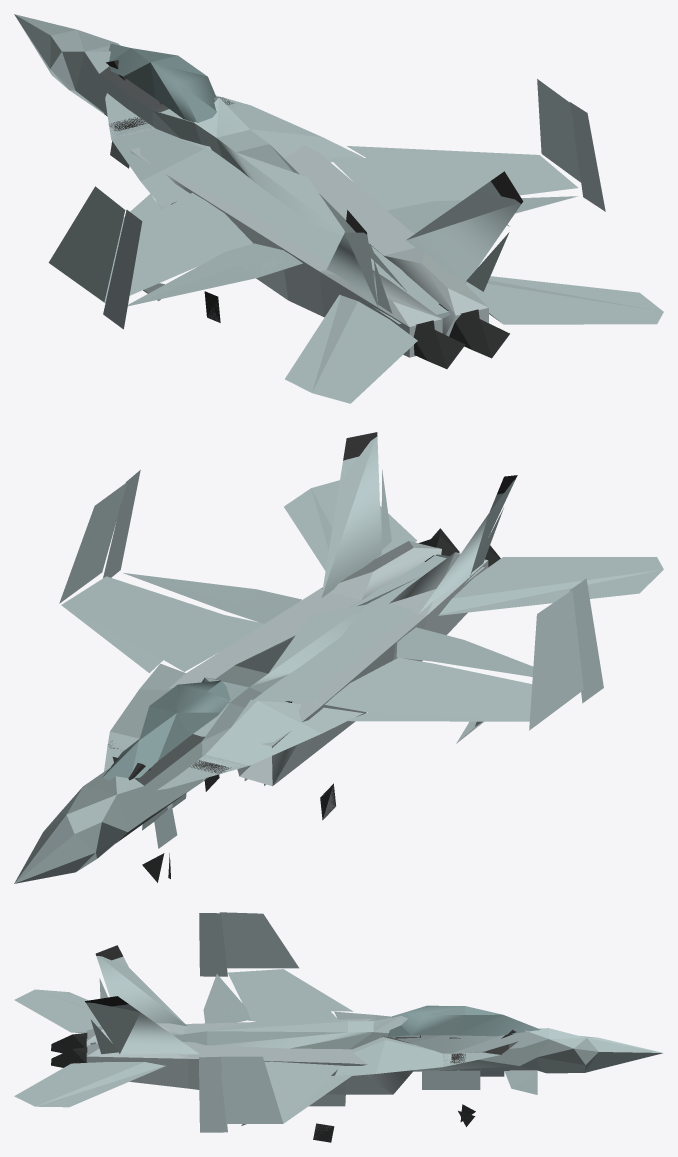
The model's file is NEXUS(SEMILLASINVASORASPROTEGGOAS).glb.
3 renders of one model, top to bottom at view 1: azimuth 30°, elevation 25°; view 2: azimuth 150°, elevation 25°; view 3: azimuth 270°, elevation 25°, orthographic. The views are drawn at different scales.
Parts seen in each view (by area): view 1: cuboid_2, cylinder_1, cuboid_21, cuboid_35, cuboid_4, cuboid_3, cuboid_8, cuboid_33, cuboid_39, cuboid_11, cylinder_50, cuboid_10 (+8 smaller); view 2: cylinder_1, cuboid_2, cuboid_21, cuboid_8, cuboid_35, cuboid_3, cuboid_4, cuboid_39, cylinder_50, cuboid_11, cuboid_22, cuboid_10 (+5 smaller); view 3: cylinder_1, cuboid_4, cuboid_8, cuboid_2, cuboid_33, cuboid_27, cuboid_39, cylinder_50, cuboid_11, cuboid_21, cuboid_43, cuboid_35 (+10 smaller).
Boxes of the visible parts, x1,y1,x2,y2 form: cuboid_2: (105, 93, 450, 323); cylinder_1: (14, 14, 406, 291); cuboid_21: (329, 146, 578, 210); cuboid_35: (285, 294, 417, 403); cuboid_4: (284, 145, 488, 336); cuboid_3: (129, 147, 442, 357); cuboid_8: (104, 188, 252, 303); cuboid_33: (466, 276, 663, 324); cuboid_39: (406, 171, 523, 284); cuboid_11: (48, 186, 125, 302); cylinder_50: (109, 43, 216, 122); cuboid_10: (128, 243, 302, 306); cylinder_1: (14, 579, 414, 883); cuboid_2: (104, 554, 484, 790); cuboid_21: (61, 576, 264, 673); cuboid_8: (313, 657, 532, 721); cuboid_35: (438, 557, 663, 615); cuboid_3: (237, 552, 488, 786); cuboid_4: (169, 541, 441, 688); cuboid_39: (321, 432, 381, 597); cylinder_50: (102, 680, 230, 780); cuboid_11: (529, 590, 583, 730); cuboid_22: (123, 573, 301, 623); cuboid_10: (396, 627, 533, 676); cylinder_1: (174, 1016, 662, 1073); cuboid_4: (86, 1041, 414, 1094); cuboid_8: (228, 969, 353, 1020); cuboid_2: (90, 1011, 518, 1075); cuboid_33: (14, 1062, 165, 1107); cuboid_27: (219, 1056, 283, 1123); cuboid_39: (85, 996, 199, 1054); cylinder_50: (388, 1005, 540, 1036); cuboid_11: (219, 912, 298, 968); cuboid_21: (264, 1061, 352, 1123); cuboid_43: (95, 945, 187, 1026); cuboid_35: (14, 989, 100, 1032).
Size of the model in its own units: 1.92 by 0.8888 by 3.37.
Materials: 6 (6 with a texture image).
